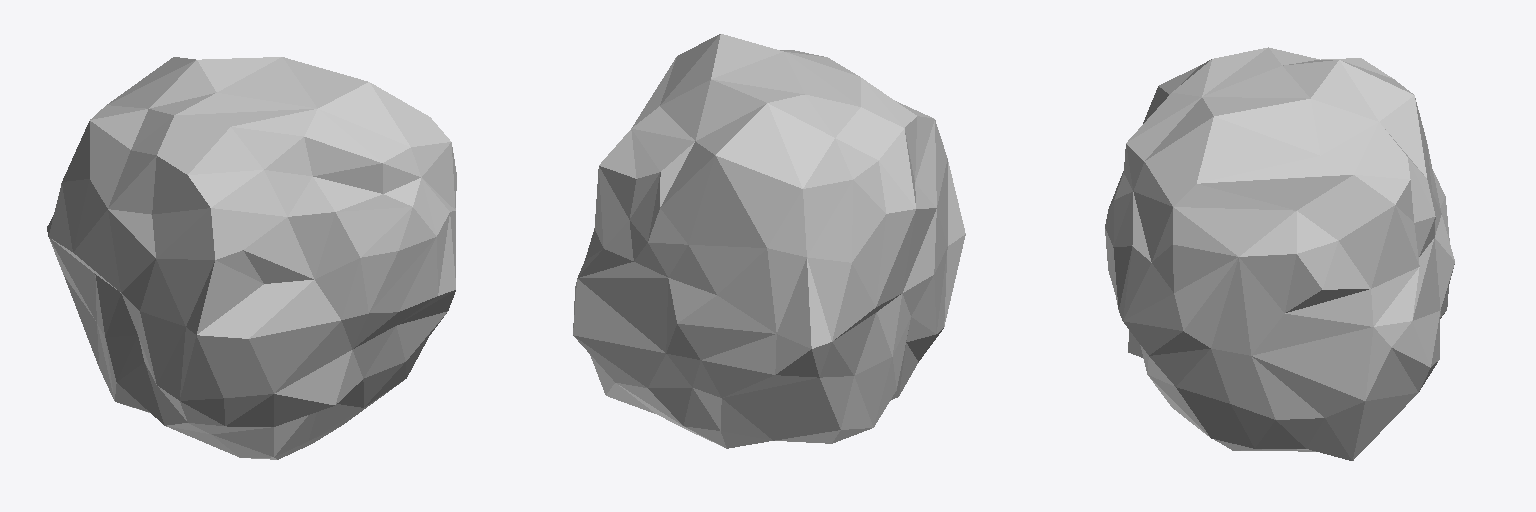
File: HalfRock_01.obj
3 views of the same model, side by side, from view 1: azimuth 30°, elevation 25°; view 2: azimuth 150°, elevation 25°; view 3: azimuth 270°, elevation 25° (orthographic).
Visible parts, largest first — view 1: ICO球; view 2: ICO球; view 3: ICO球.
Boxes of the visible parts, <box> form: ICO球: <box>47,57,456,459</box>; ICO球: <box>573,34,965,448</box>; ICO球: <box>1105,47,1454,460</box>.
Size of the model in its own units: 4.63 by 5.42 by 4.74.